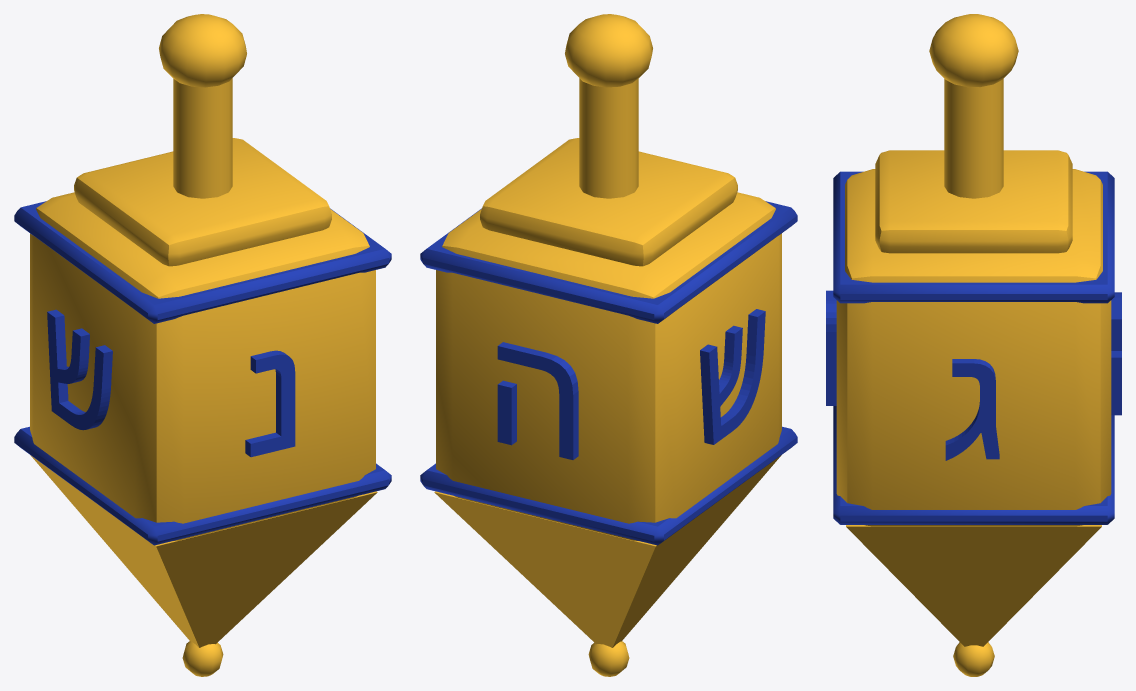
Rendered from play_dreidel.glb.
The picture shows the model from 3 angles, left to right: view 1: azimuth 30°, elevation 25°; view 2: azimuth 150°, elevation 25°; view 3: azimuth 270°, elevation 25°; orthographic projection.
Parts seen in each view (by area): view 1: Dreidel; view 2: Dreidel; view 3: Dreidel.
Part boxes in pixels (left/top/right/bottom): Dreidel: left=14, top=14, right=391, bottom=676; Dreidel: left=420, top=14, right=797, bottom=676; Dreidel: left=826, top=14, right=1121, bottom=676.
Size of the model in its own units: 0.496 by 1.21 by 0.496.
